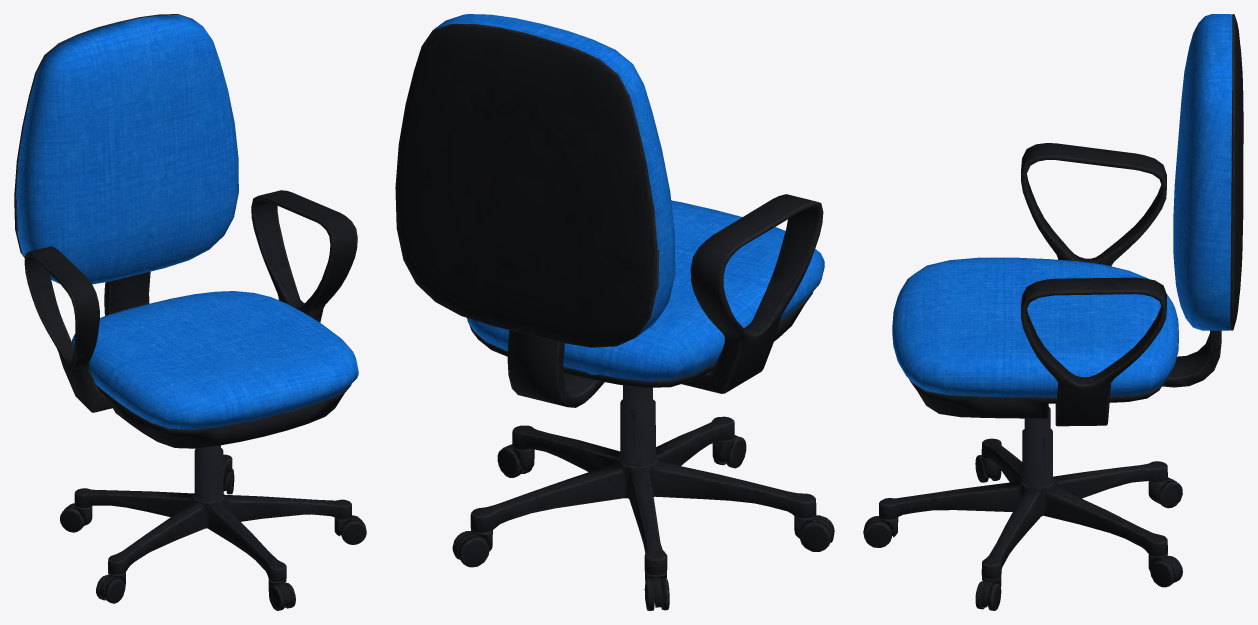
The model's file is office_chair.glb.
The picture shows the model from 3 angles, left to right: view 1: azimuth 30°, elevation 25°; view 2: azimuth 150°, elevation 25°; view 3: azimuth 270°, elevation 25°; orthographic projection. The views are drawn at different scales.
Parts seen in each view (by area): view 1: defaultMaterial; view 2: defaultMaterial; view 3: defaultMaterial.
Boxes of the visible parts, <box> form: defaultMaterial: <box>14,14,366,610</box>; defaultMaterial: <box>395,14,834,610</box>; defaultMaterial: <box>863,14,1243,610</box>.
Size of the model in its own units: 0.6782 by 1.06 by 0.7217.
Materials: 1 (1 with a texture image).
